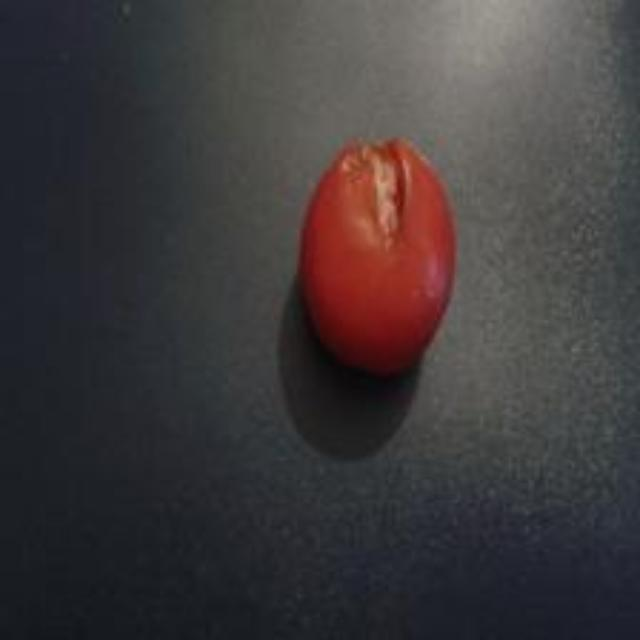defect: (288, 127, 476, 387)
